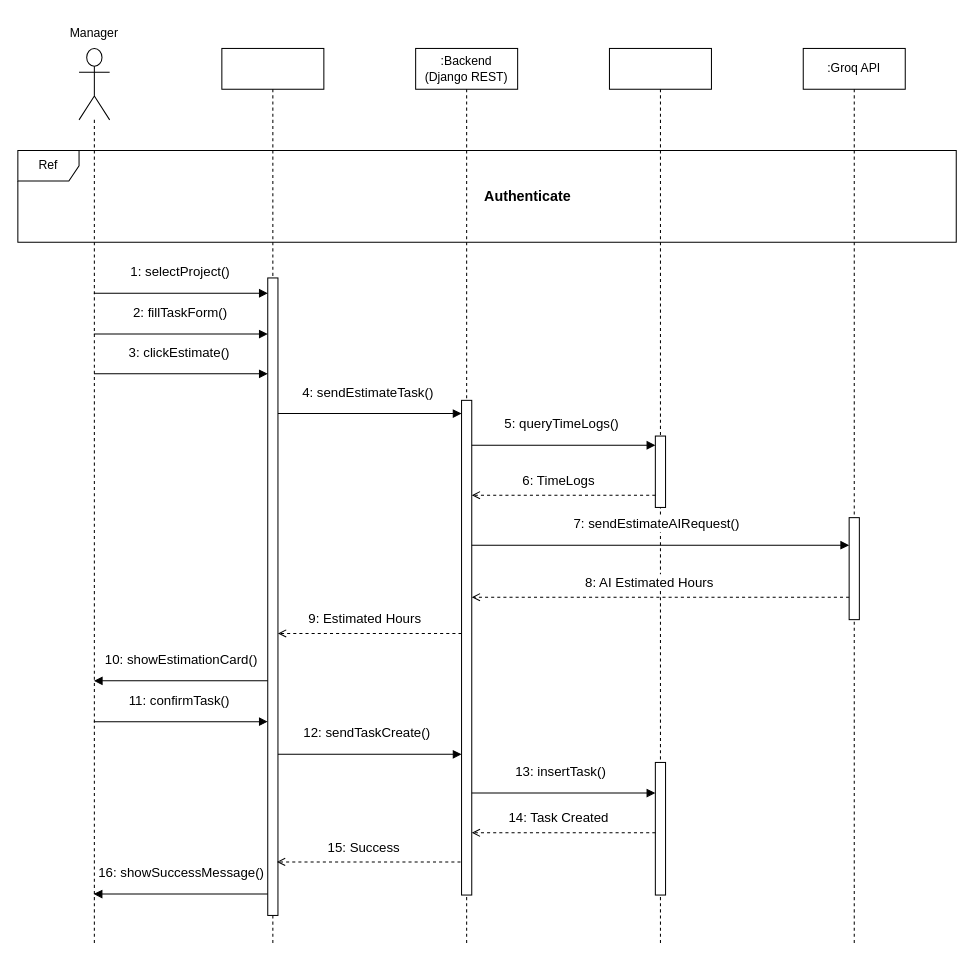
Some shapes in this 974 by 964 pixel diagram are drawn without their labels. Here are the shapes that lost their labels. From the top down, the box of each, then its label:
(221, 47, 324, 946): :UI
(608, 47, 711, 946): :Database (PostgreSQL)
